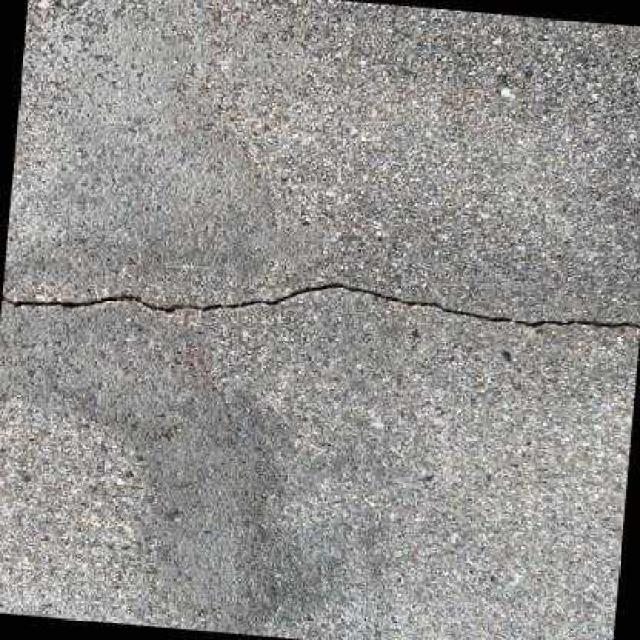D00: (0, 282, 640, 331)
